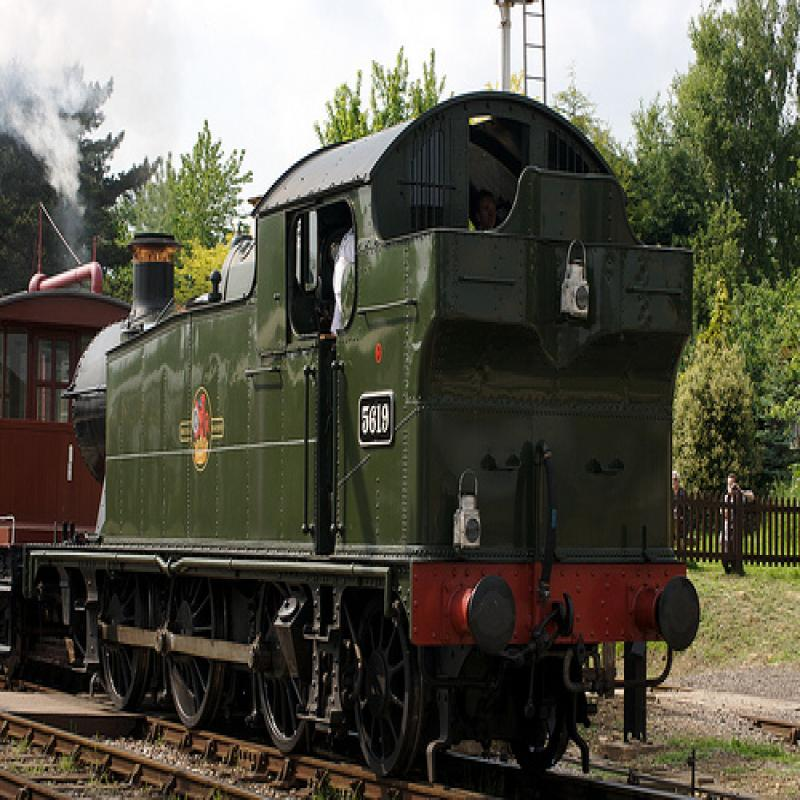train: (3, 85, 700, 799)
